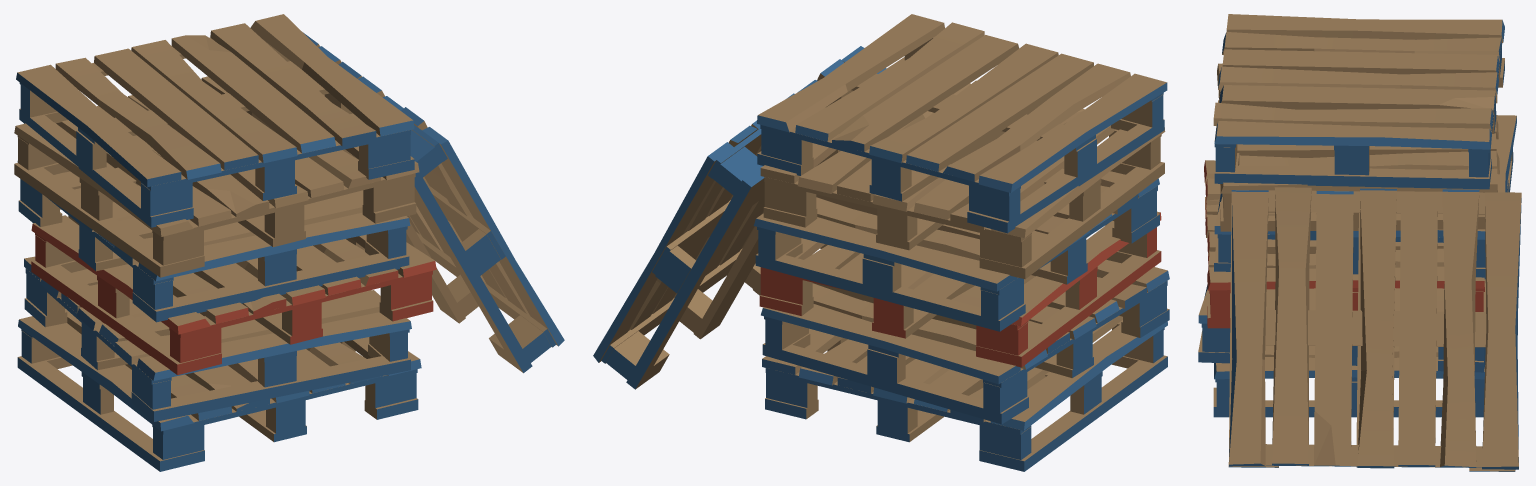
Rendered from SM_Prop_Warehouse_Pallet_Stacked_01.obj.
3 views of the same model, side by side, from view 1: azimuth 30°, elevation 25°; view 2: azimuth 150°, elevation 25°; view 3: azimuth 270°, elevation 25° (orthographic). The views are drawn at different scales.
Parts seen in each view (by area): view 1: SM_Prop_Warehouse_Pallet_Stacked_01_0; view 2: SM_Prop_Warehouse_Pallet_Stacked_01_0; view 3: SM_Prop_Warehouse_Pallet_Stacked_01_0.
Part boxes in pixels (x1,y1,x2,y2): SM_Prop_Warehouse_Pallet_Stacked_01_0: (14, 14, 564, 471); SM_Prop_Warehouse_Pallet_Stacked_01_0: (593, 14, 1169, 471); SM_Prop_Warehouse_Pallet_Stacked_01_0: (1198, 14, 1521, 471).
Bounding box in the file's own units: 2.33 × 1.53 × 1.61.
1 material, 1 textured.
